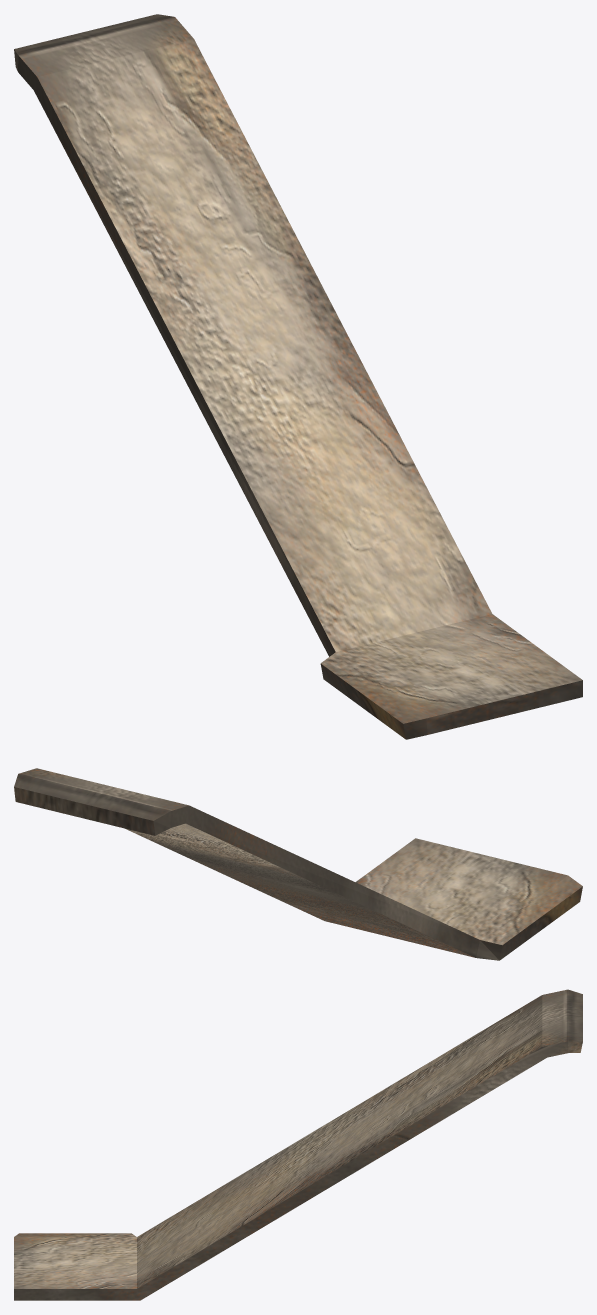
File: SidePlatformRamp.obj
3 renders of one model, top to bottom at view 1: azimuth 30°, elevation 25°; view 2: azimuth 150°, elevation 25°; view 3: azimuth 270°, elevation 25°, orthographic. The views are drawn at different scales.
Visible parts, largest first — view 1: SidePlatformRamp; view 2: SidePlatformRamp; view 3: SidePlatformRamp.
Part boxes in pixels (bbox=[...]): SidePlatformRamp: bbox=[14, 14, 582, 739]; SidePlatformRamp: bbox=[14, 768, 582, 960]; SidePlatformRamp: bbox=[14, 989, 582, 1300].
Size of the model in its own units: 2.48 by 5.2 by 10.25.
1 material, 1 textured.
